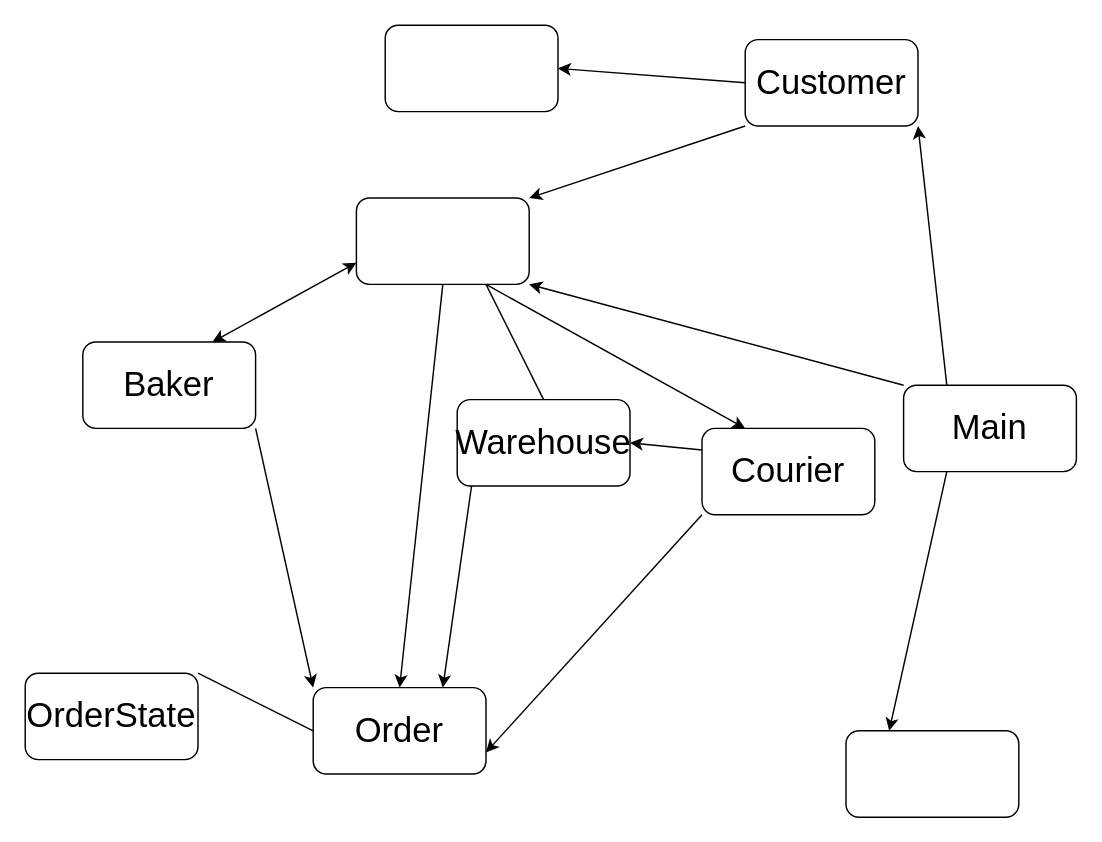
Some shapes in this 1102 by 842 pixel diagram are drawn without their labels. Here are the shapes that lost their labels. From the top down, the box of each, then its label:
(384, 24, 558, 112): Pizza
(355, 197, 529, 284): Pizzeria
(845, 729, 1019, 817): Config
